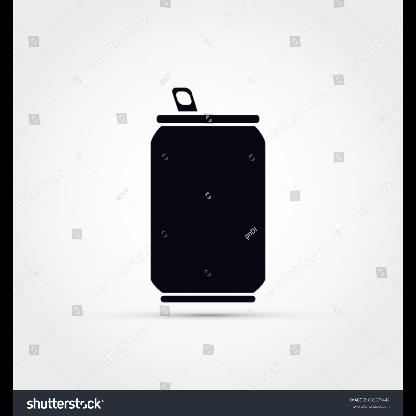Lid_Open: (166, 72, 202, 141)
Tin_Can: (146, 83, 268, 315)
